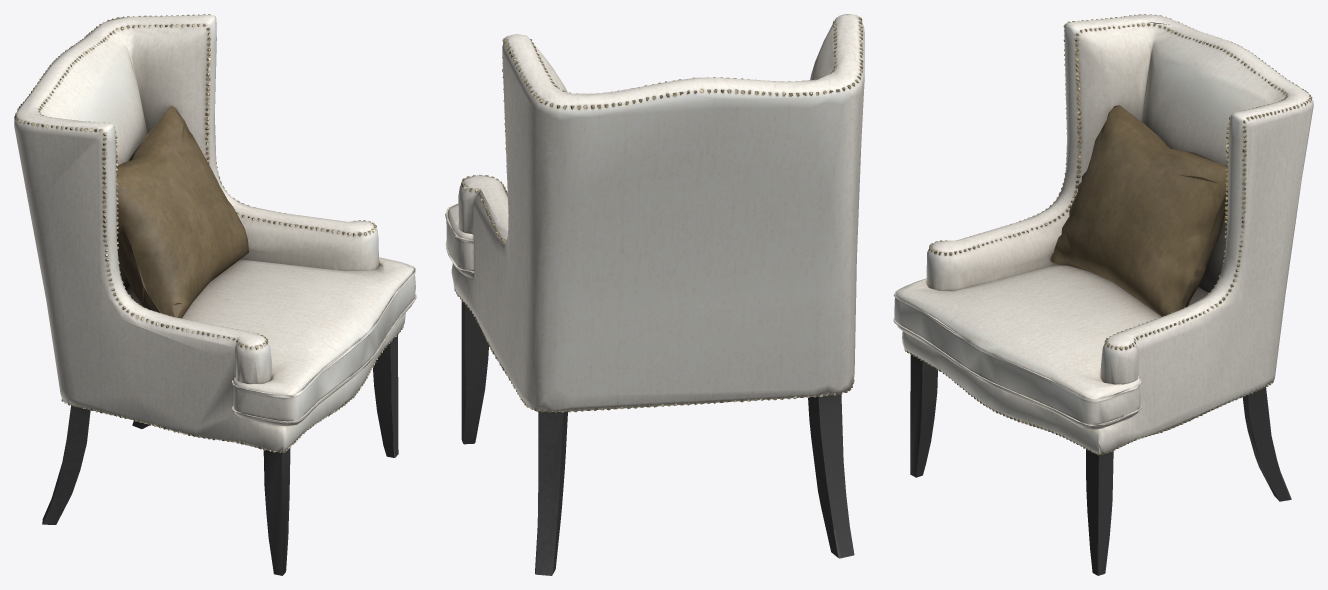
The picture shows the model from 3 angles, left to right: view 1: azimuth 30°, elevation 25°; view 2: azimuth 150°, elevation 25°; view 3: azimuth 270°, elevation 25°; orthographic projection. The views are drawn at different scales.
Parts seen in each view (by area): view 1: Lounge_Chair_/_Book-chair_/_Computer_Chair_raw_model.017; view 2: Lounge_Chair_/_Book-chair_/_Computer_Chair_raw_model.017; view 3: Lounge_Chair_/_Book-chair_/_Computer_Chair_raw_model.017.
Boxes of the visible parts, <box> form: Lounge_Chair_/_Book-chair_/_Computer_Chair_raw_model.017: <box>14,14,416,575</box>; Lounge_Chair_/_Book-chair_/_Computer_Chair_raw_model.017: <box>445,14,864,575</box>; Lounge_Chair_/_Book-chair_/_Computer_Chair_raw_model.017: <box>893,14,1313,575</box>.
Bounding box in the file's own units: 0.8571 × 0.922 × 0.8646.
Materials: 1 (1 with a texture image).
